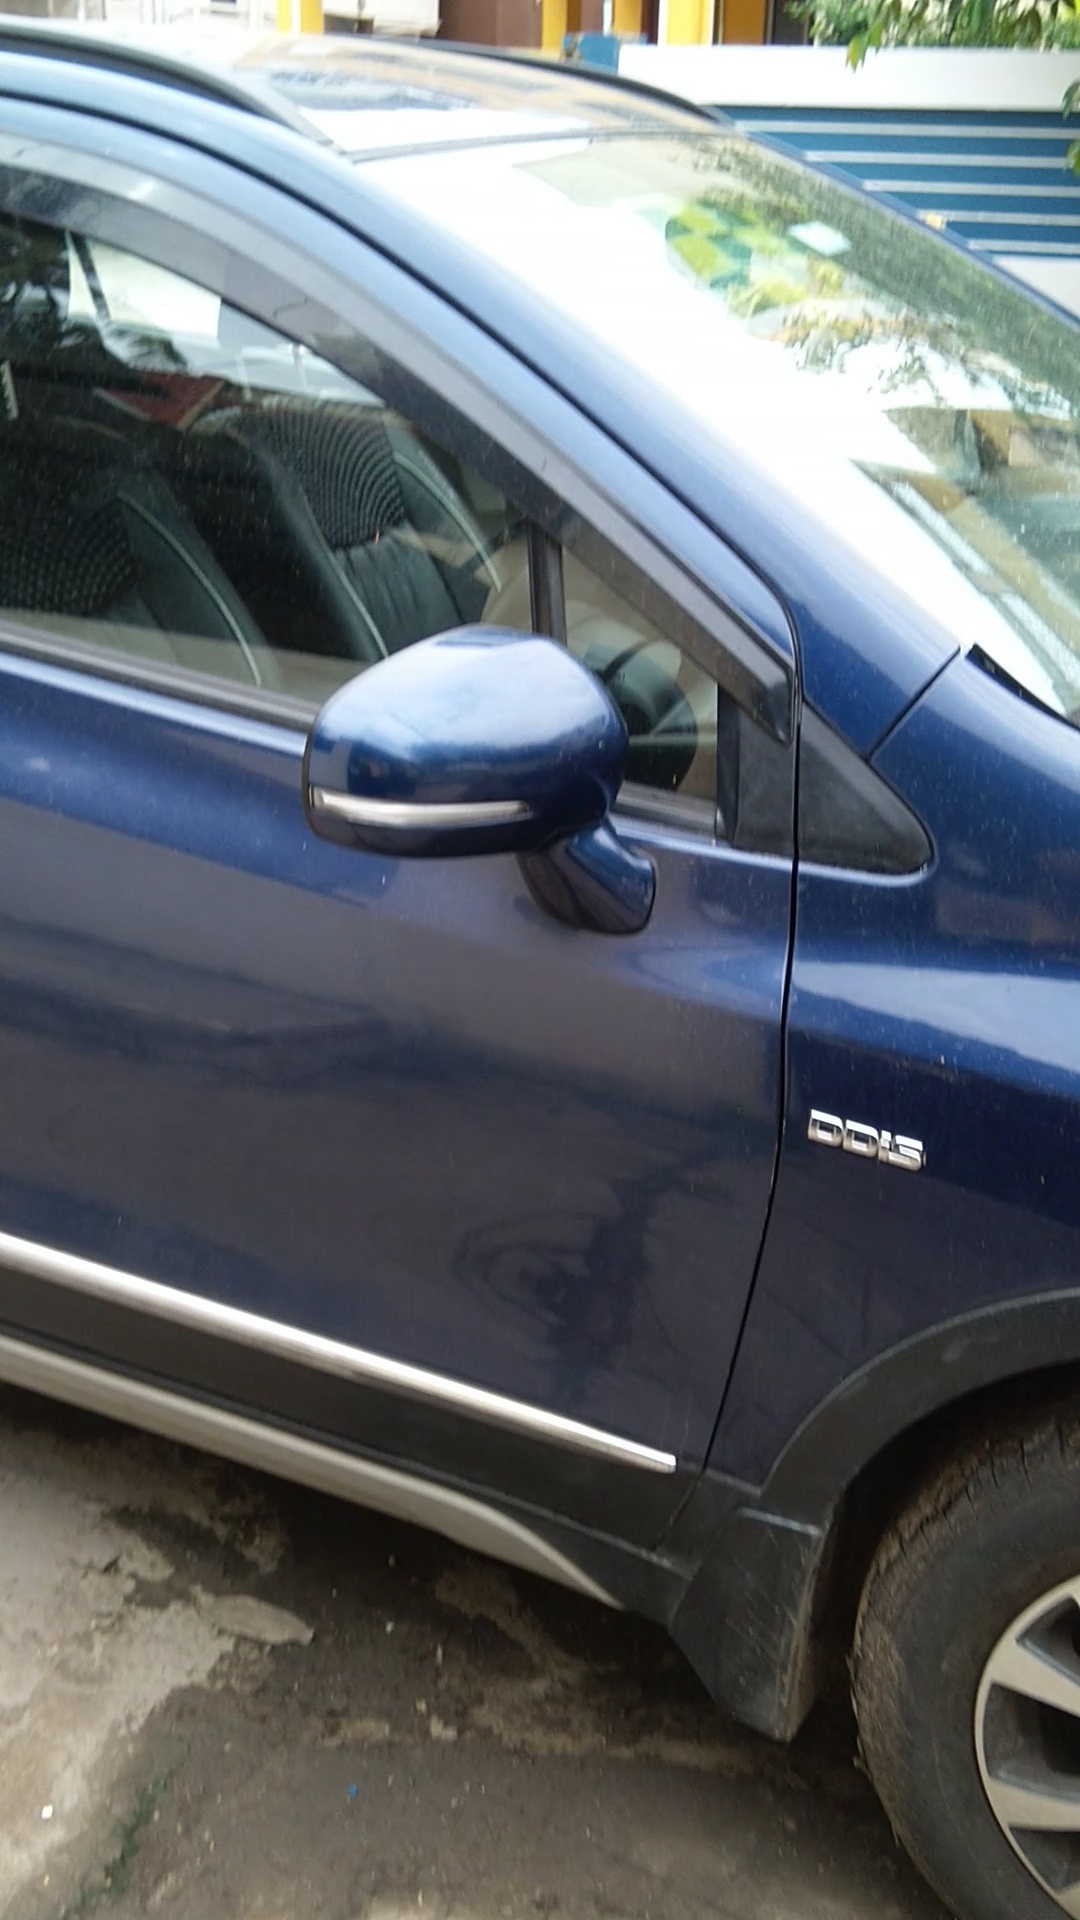ovr_mirror: (272, 585, 696, 967)
